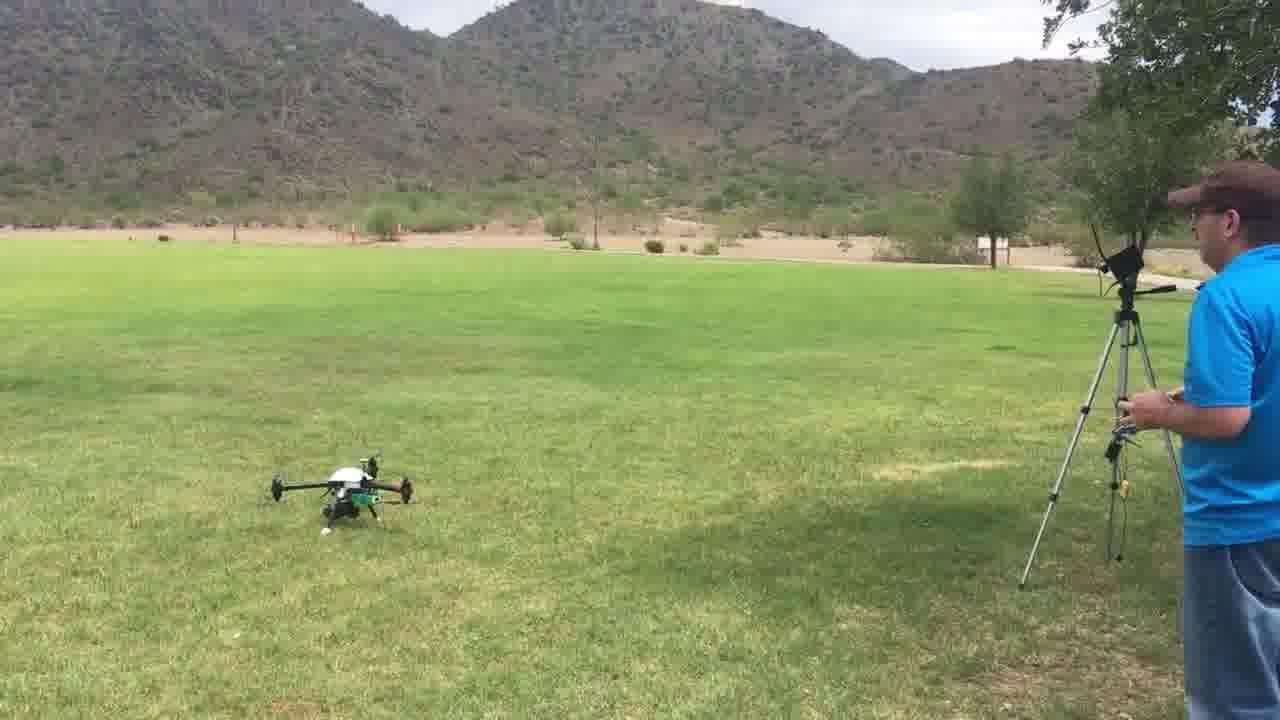drone: (266, 442, 418, 529)
